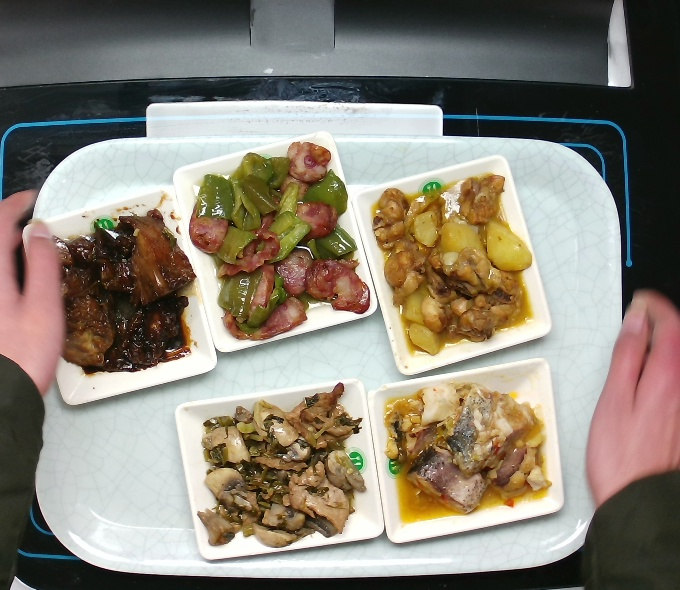wcq-JiangZhiYa: (55, 209, 197, 378)
wcq-MoGuRouPian: (196, 382, 369, 550)
wcq-QingJiaoXiangChang: (187, 139, 371, 344)
wcq-SuanCaiYu: (382, 380, 551, 524)
wcq-TuDouJiKuai: (371, 169, 537, 356)
